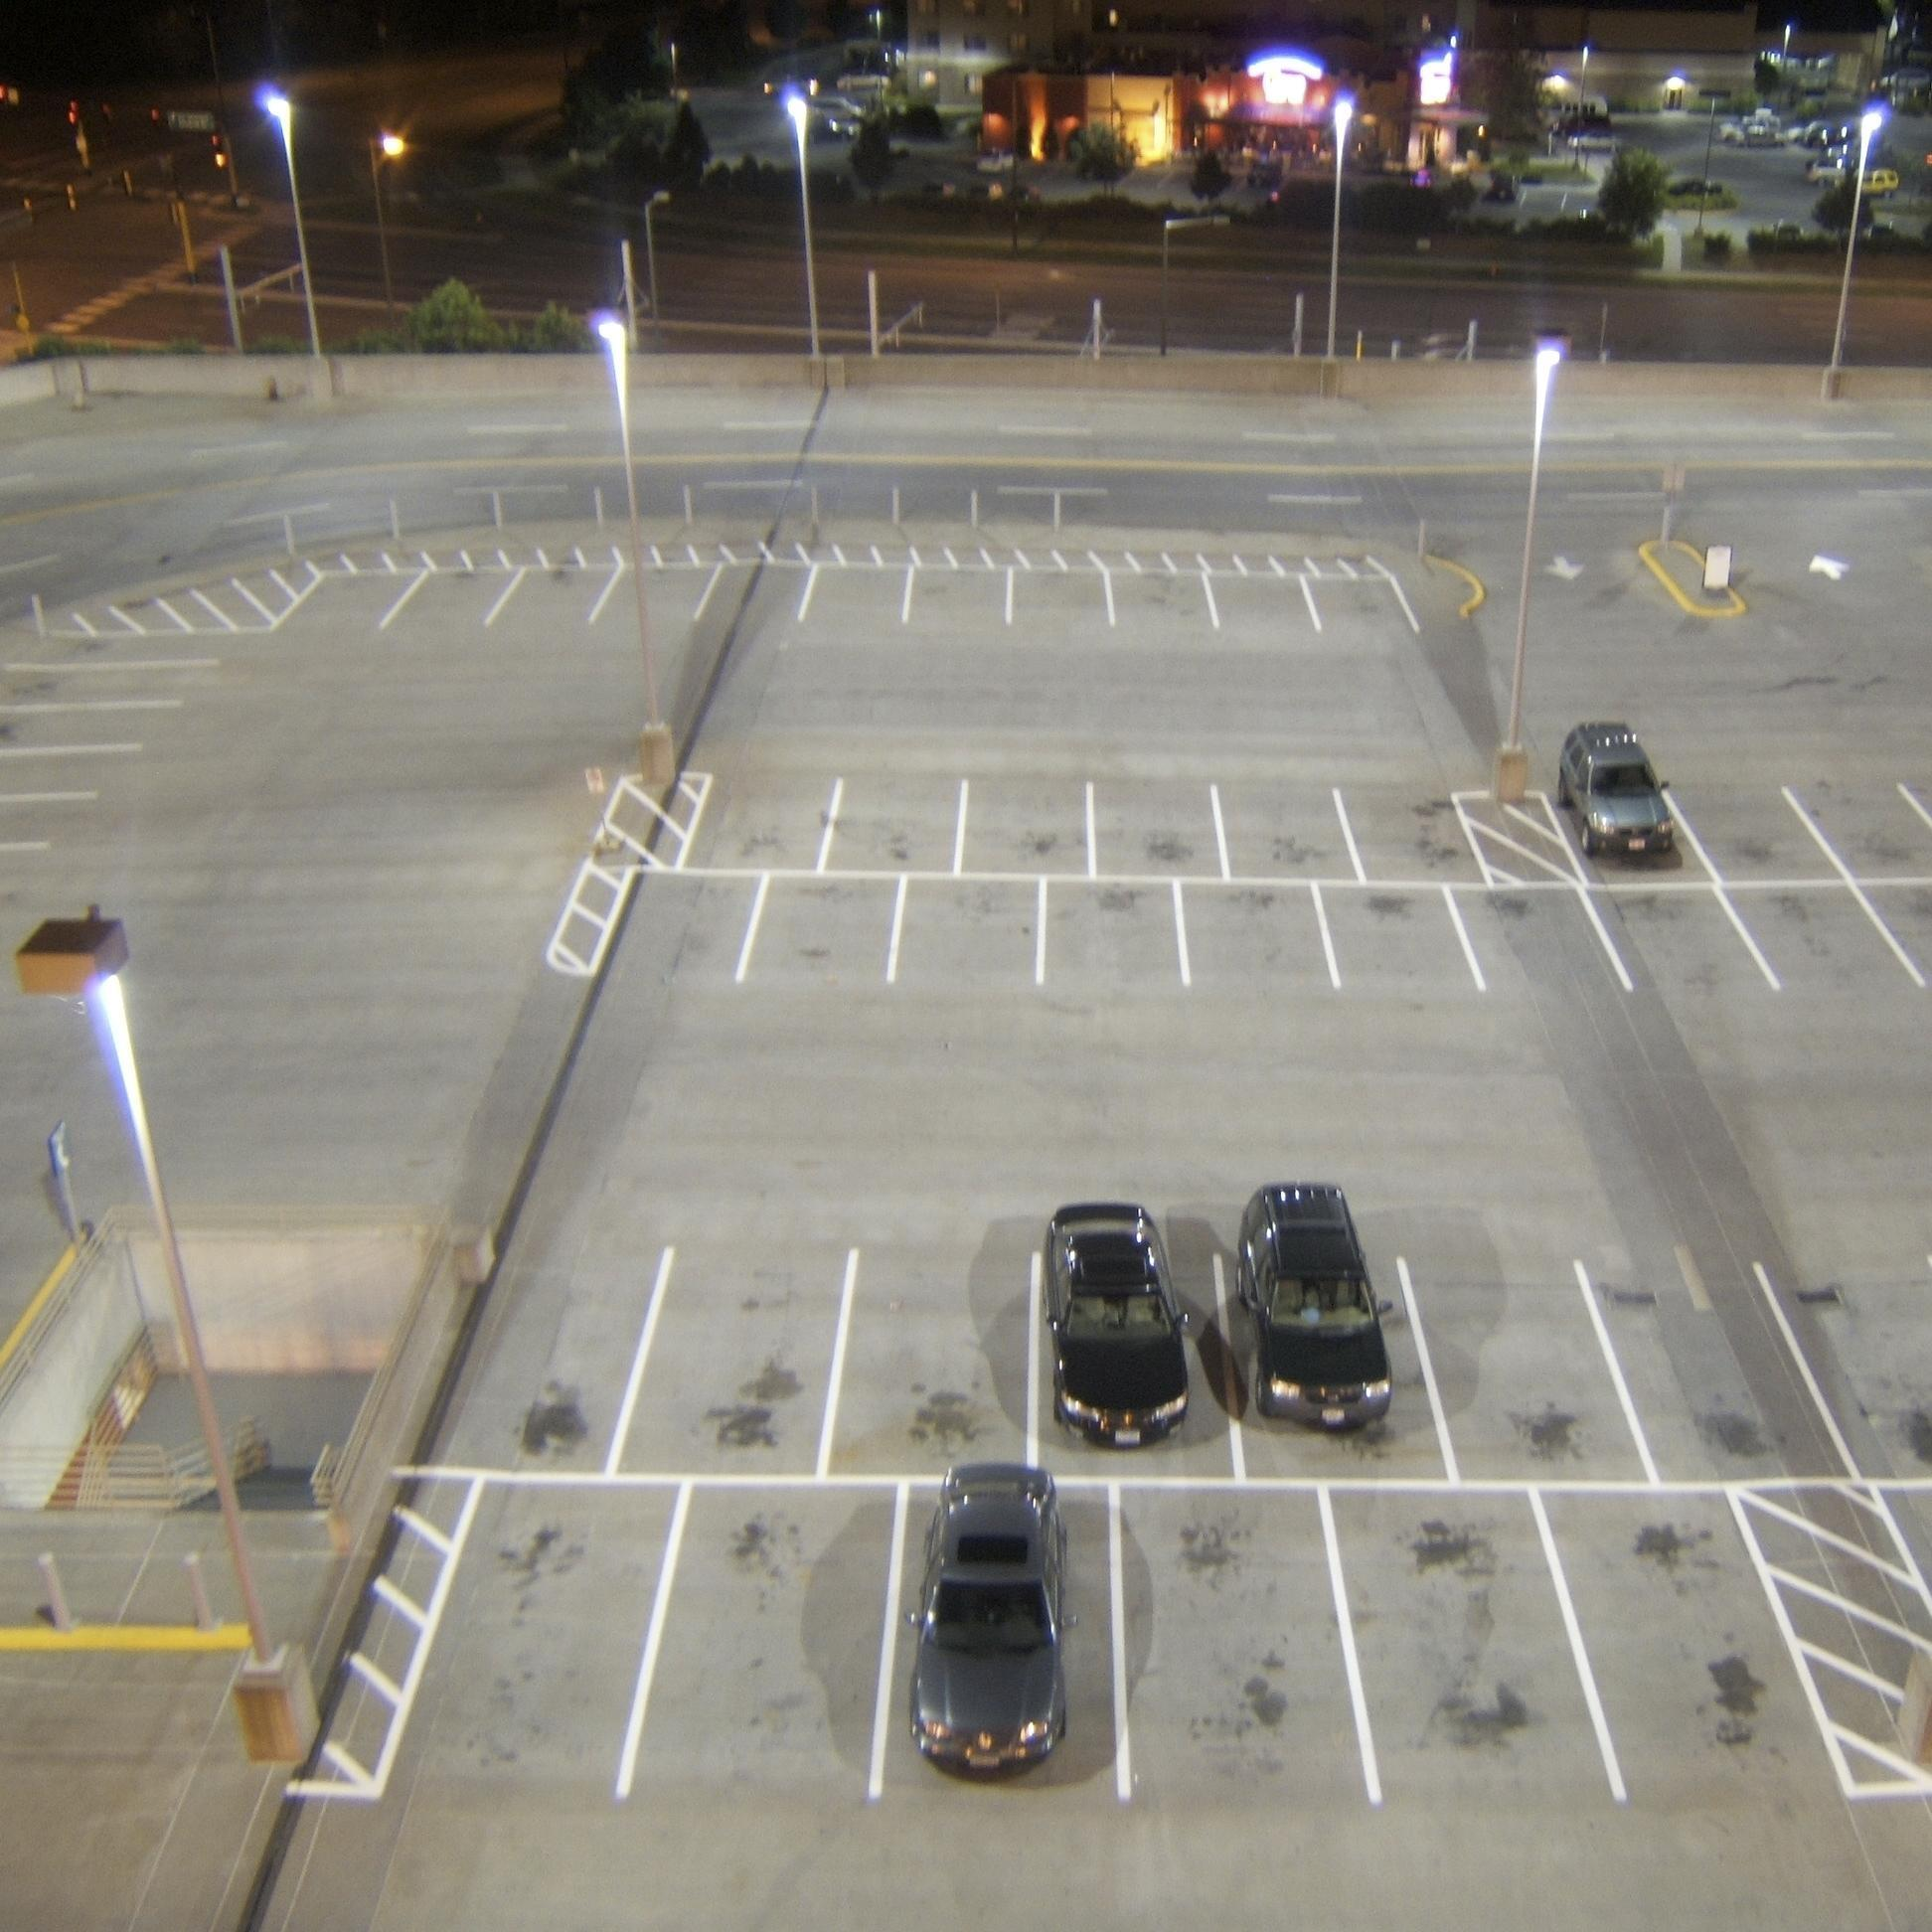Car: (896, 1455, 1085, 1784), (1220, 1173, 1401, 1437), (1038, 1193, 1198, 1463), (1551, 715, 1678, 865)
